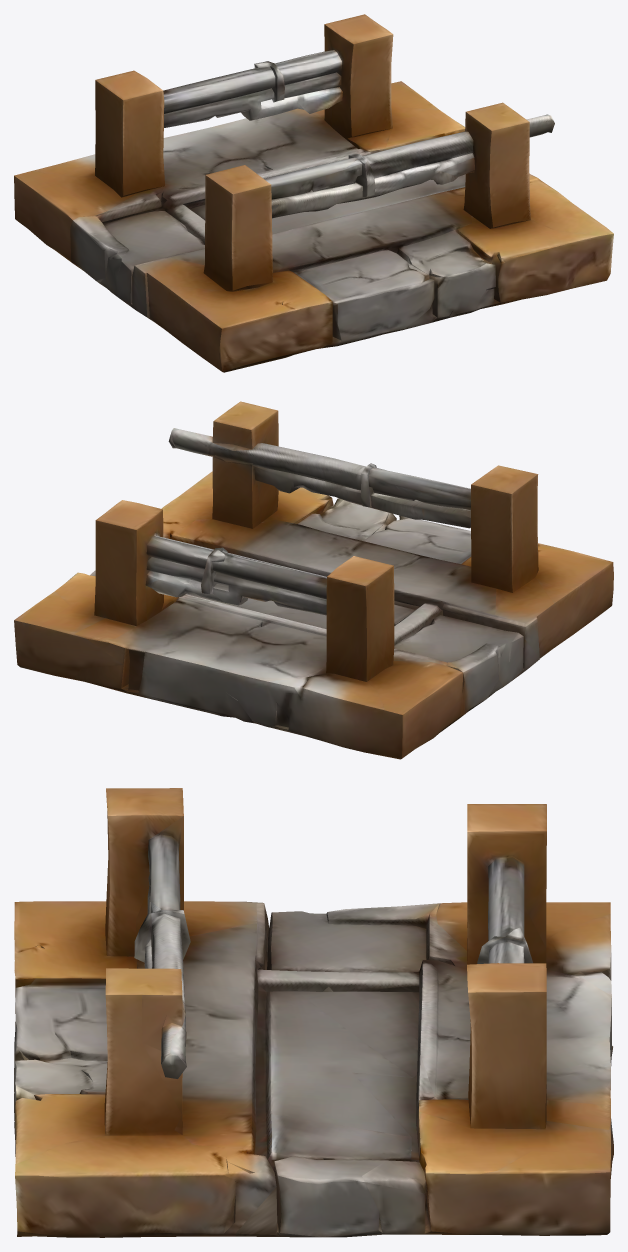
Rendered from m2RailSwitch.glb.
3 views of the same model, one above another, from view 1: azimuth 30°, elevation 25°; view 2: azimuth 150°, elevation 25°; view 3: azimuth 270°, elevation 25° (orthographic). The views are drawn at different scales.
Parts seen in each view (by area): view 1: model; view 2: model; view 3: model.
Boxes of the visible parts, left/top/right/bottom form: model: left=14, top=14, right=613, bottom=372; model: left=14, top=401, right=613, bottom=759; model: left=14, top=788, right=613, bottom=1237.
Size of the model in its own units: 1.91 by 0.6828 by 1.76.
1 material, 1 textured.
